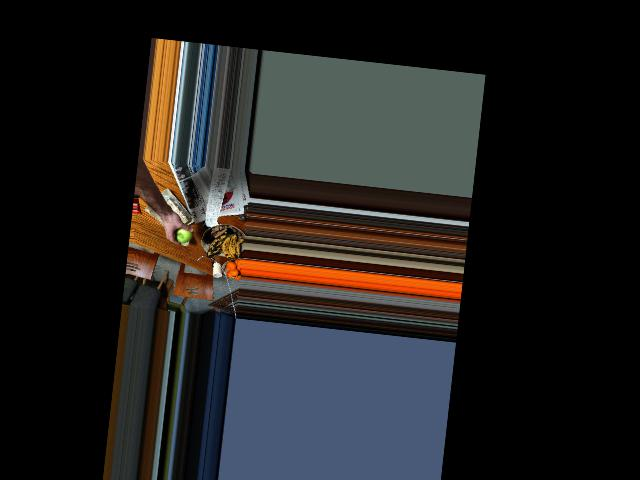apple: (171, 224, 193, 244)
